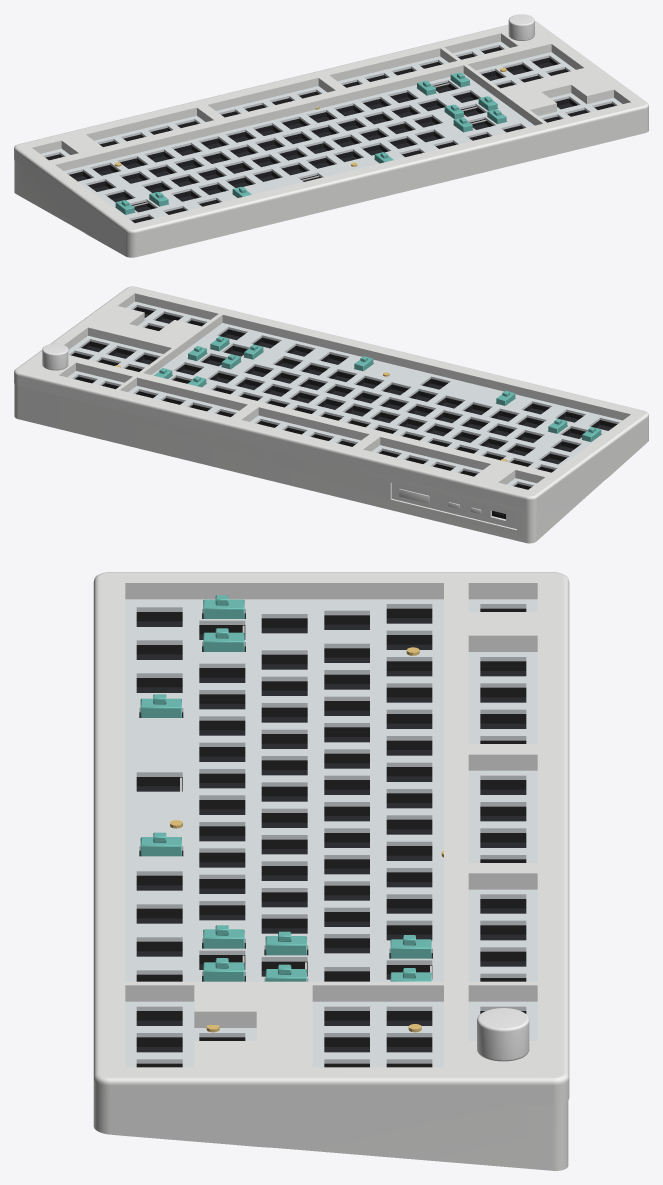
Rendered from tkl-ansi.glb.
3 renders of one model, top to bottom at view 1: azimuth 30°, elevation 25°; view 2: azimuth 150°, elevation 25°; view 3: azimuth 270°, elevation 25°, orthographic. The views are drawn at different scales.
Visible parts, largest first — view 1: upperLid, plate, plateFoam, pcbFoam, pcb, stabilizers, lowerLid, knob; view 2: upperLid, plate, lowerLid, plateFoam, pcbFoam, pcb, stabilizers, knob, rearLight; view 3: upperLid, plate, plateFoam, pcb, pcbFoam, lowerLid, stabilizers, knob.
Boxes of the visible parts, x1,y1,x2,y2 form: upperLid: (14,21,648,257); plate: (40,41,622,220); plateFoam: (45,47,614,222); pcbFoam: (48,49,612,222); pcb: (74,62,573,212); stabilizers: (115,72,506,214); lowerLid: (14,160,80,230); knob: (508,14,534,40); upperLid: (14,286,648,509); plate: (67,301,622,486); lowerLid: (14,384,602,543); plateFoam: (71,307,617,488); pcbFoam: (73,309,614,489); pcb: (86,313,612,464); stabilizers: (154,336,601,441); knob: (42,343,68,370); rearLight: (399,489,481,513); upperLid: (93,572,569,1148); plate: (125,599,537,1067); plateFoam: (136,608,526,1067); pcb: (136,618,526,1052); pcbFoam: (136,613,526,1046); lowerLid: (278,1101,568,1170); stabilizers: (140,595,431,981); knob: (477,1008,529,1061).
Size of what is drawn, in the model's own units: 36.79 by 4.28 by 14.51.
